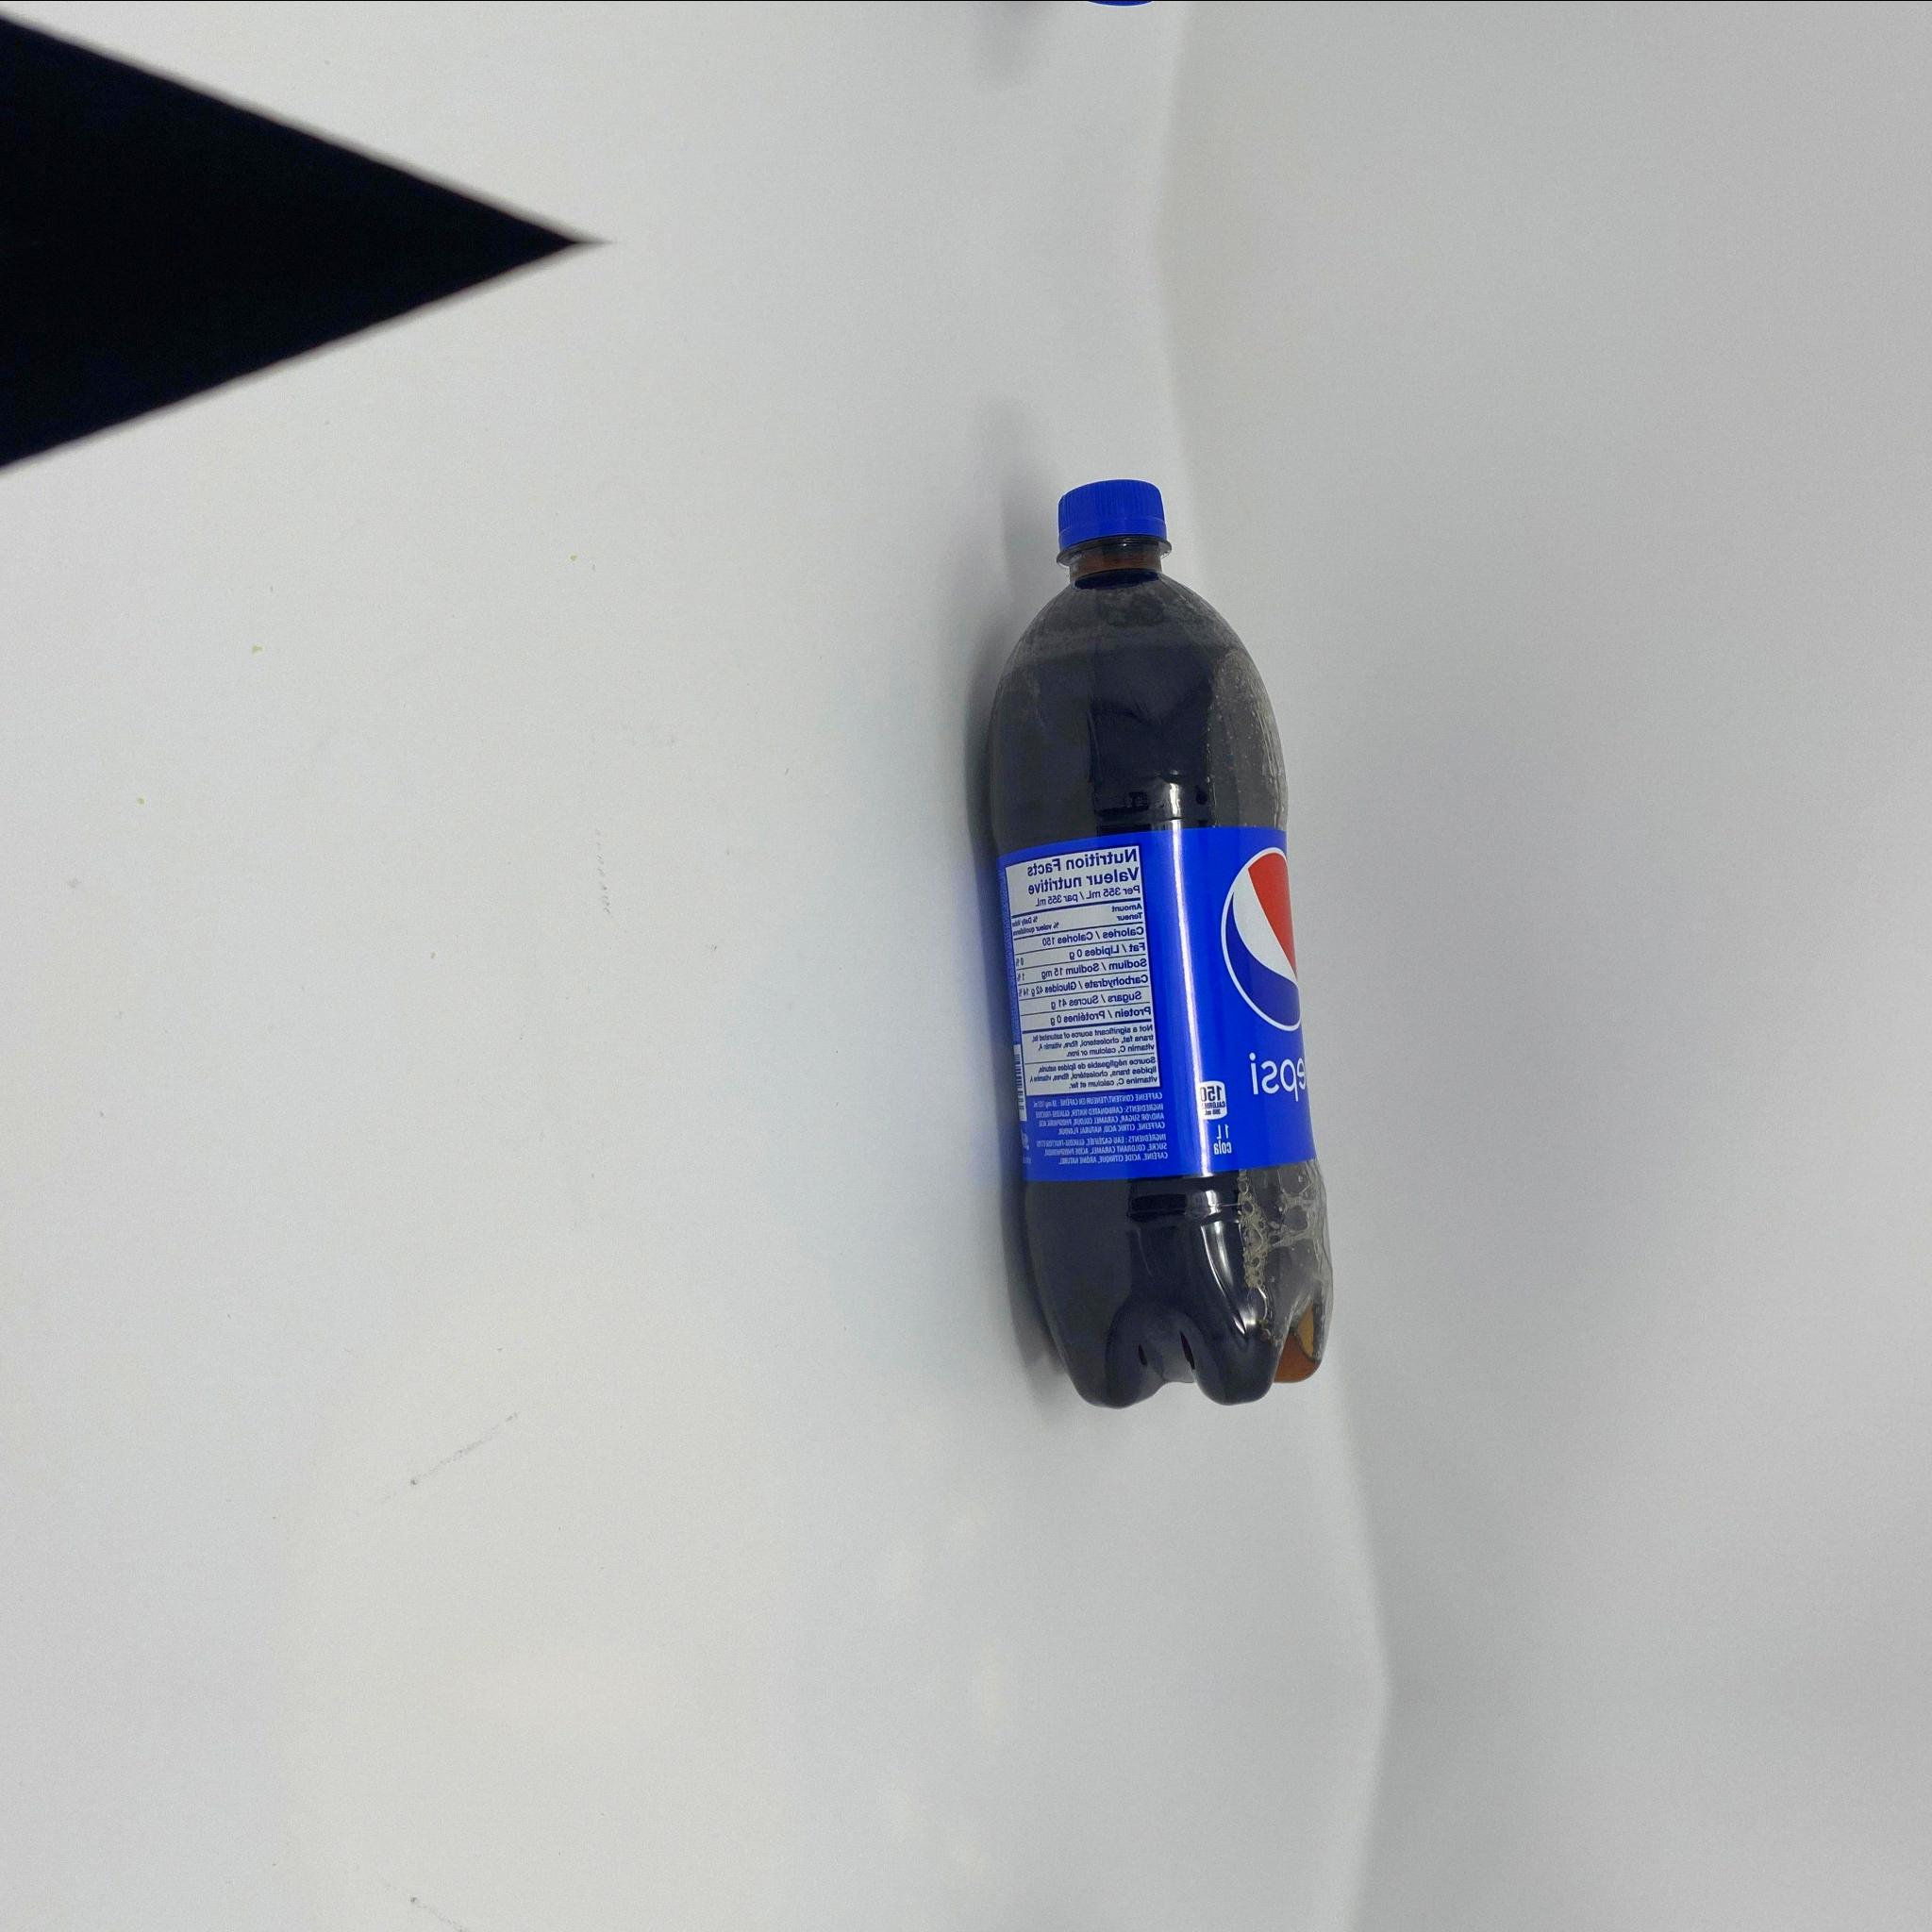PET: (984, 478, 1339, 1410)
pepsi: (984, 478, 1339, 1410)
plastic: (984, 478, 1339, 1410)
soft-drink: (984, 478, 1339, 1410)
